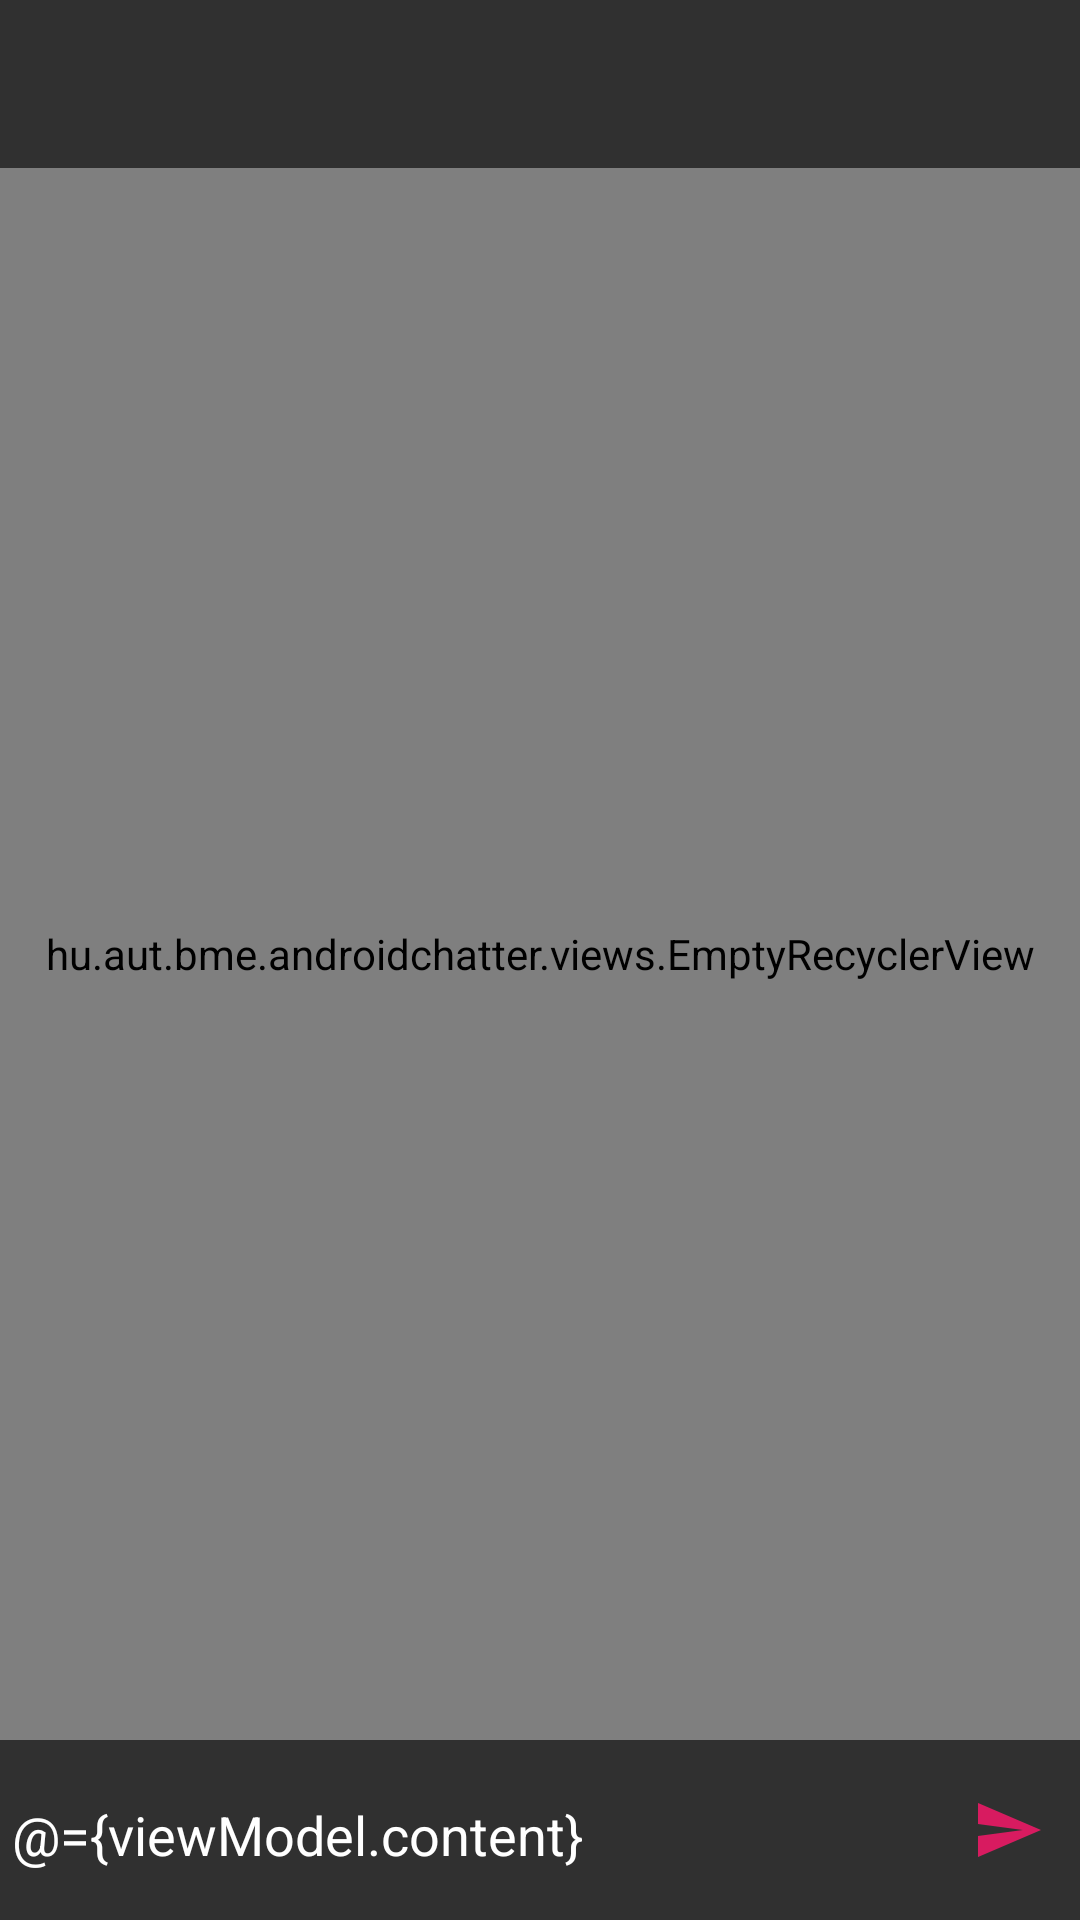

Screen size 1080 x 1920. Icon name, then its box in pixels as [left=x1, top=y1, right=x2, bottom=y2]:
send: [left=978, top=1803, right=1041, bottom=1857]
